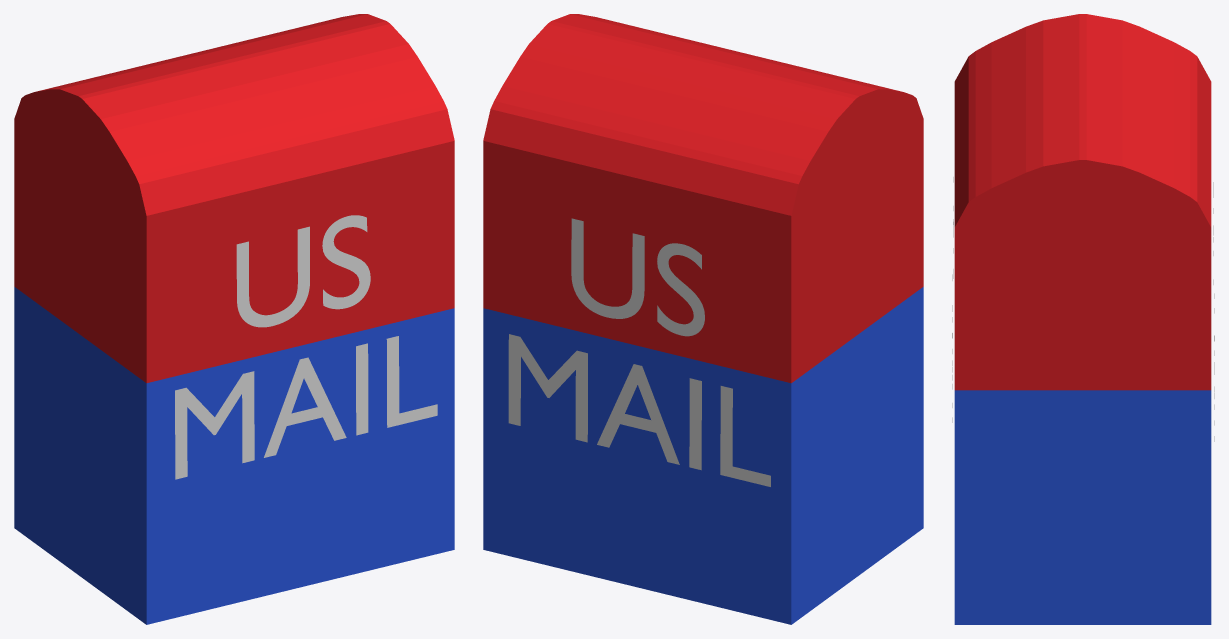
File: mailbox.fbx
3 renders of one model, left to right at view 1: azimuth 30°, elevation 25°; view 2: azimuth 150°, elevation 25°; view 3: azimuth 270°, elevation 25°, orthographic. The views are drawn at different scales.
Parts seen in each view (by area): view 1: Cube, US; view 2: Cube, US.001; view 3: Cube.
Part boxes in pixels (<box>): Cube: <box>14,14,454,624</box>; US: <box>175,215,437,479</box>; Cube: <box>483,14,923,624</box>; US.001: <box>508,218,770,486</box>; Cube: <box>954,14,1211,624</box>.
Size of the model in its own units: 135 by 200 by 102.
